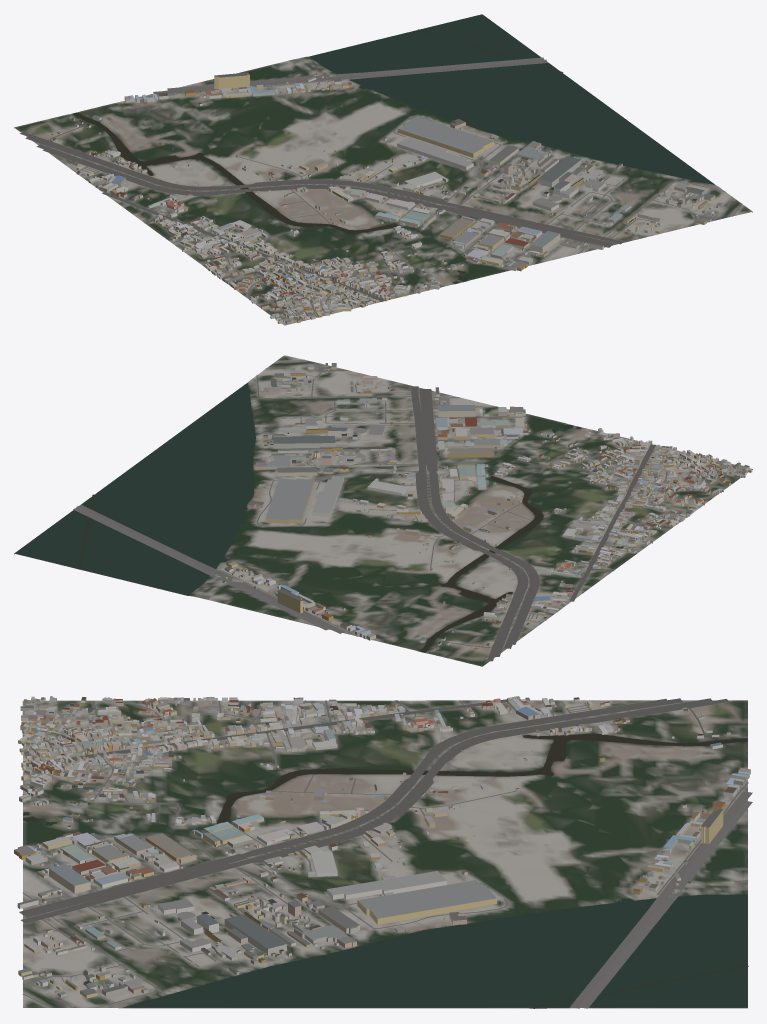
The picture shows the model from 3 angles, top to bottom: view 1: azimuth 30°, elevation 25°; view 2: azimuth 150°, elevation 25°; view 3: azimuth 270°, elevation 25°; orthographic projection. The views are drawn at different scales.
Visible parts, largest first — view 1: ground, buildings, water, roads; view 2: ground, buildings, water, roads; view 3: ground, buildings, water, roads.
Part boxes in pixels (bbox=[...]): ground: bbox=[14, 16, 752, 325]; buildings: bbox=[50, 72, 723, 324]; water: bbox=[72, 14, 714, 283]; roads: bbox=[20, 57, 742, 317]; ground: bbox=[14, 355, 752, 666]; buildings: bbox=[222, 363, 752, 649]; water: bbox=[15, 383, 581, 652]; roads: bbox=[73, 359, 726, 661]; ground: bbox=[22, 700, 747, 1008]; buildings: bbox=[14, 696, 750, 998]; water: bbox=[23, 733, 748, 1008]; roads: bbox=[19, 698, 752, 1008].
Bounding box in the file's own units: 1413 × 40.87 × 1427.
